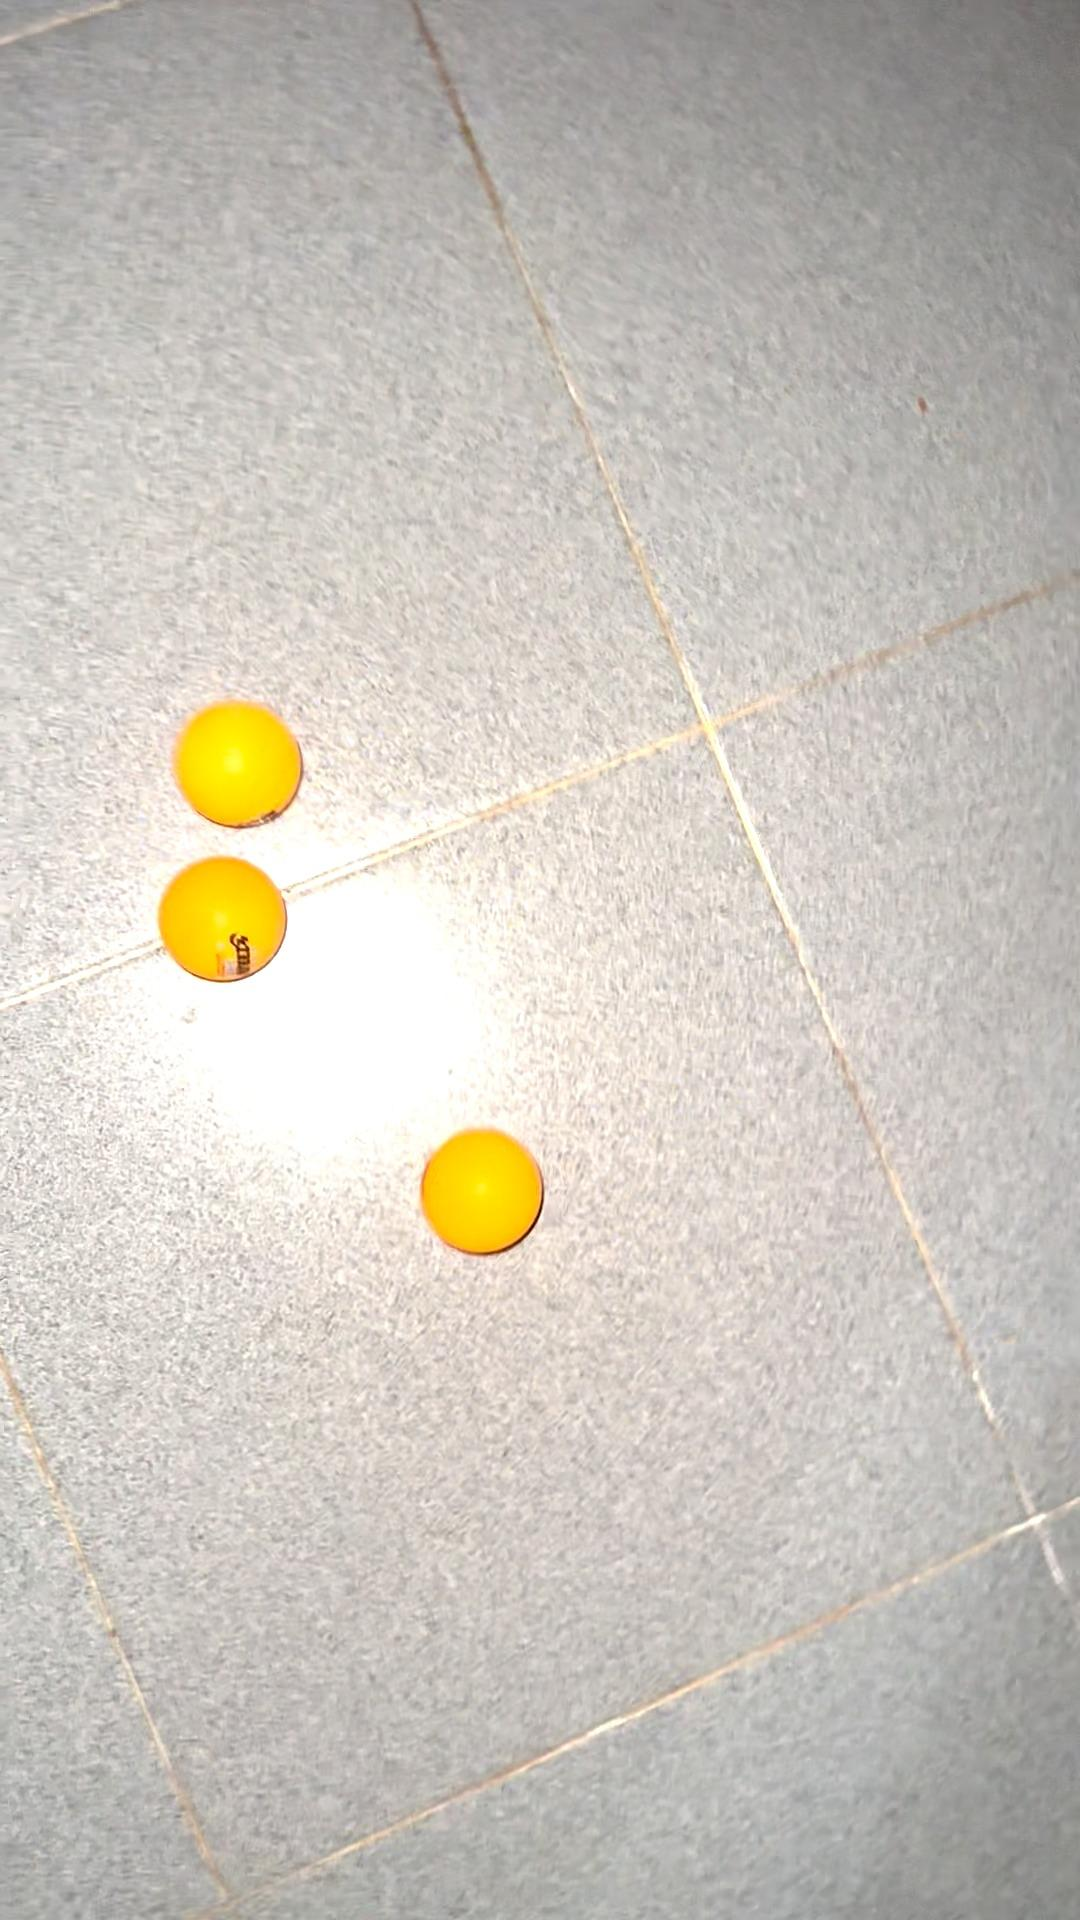oball: (407, 1112, 555, 1270), (148, 848, 295, 986), (164, 698, 309, 827)
